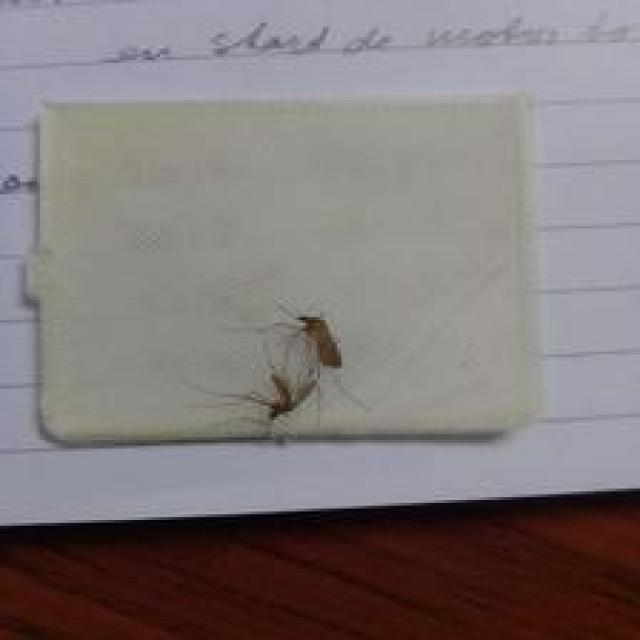Culex: (183, 300, 368, 443)
